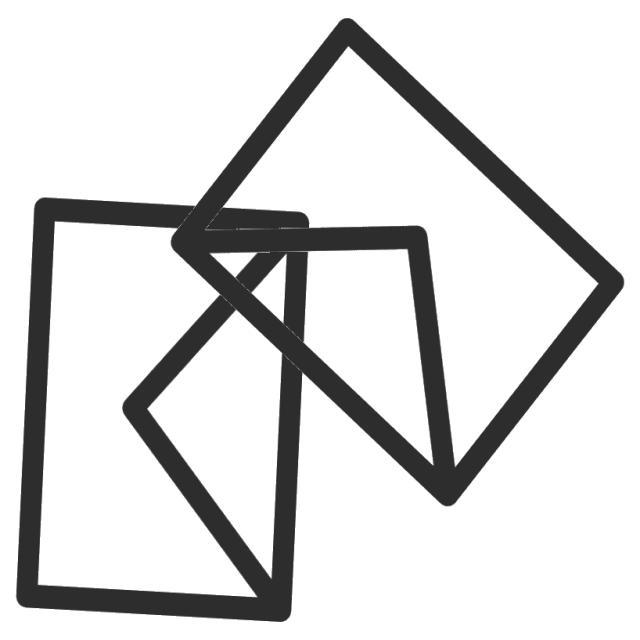letter: (158, 6, 640, 528), (16, 192, 326, 627)
